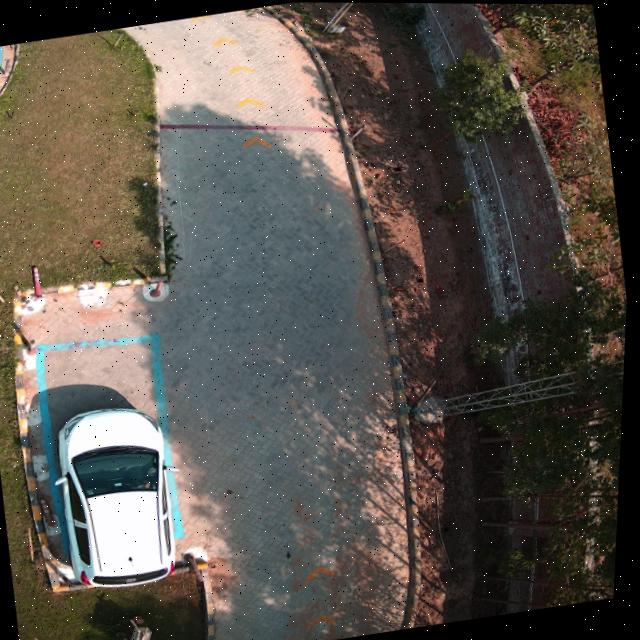car: (59, 406, 180, 589)
